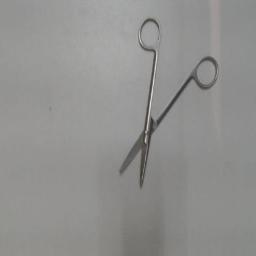Curved Mayo Scissors: (118, 14, 222, 192)
